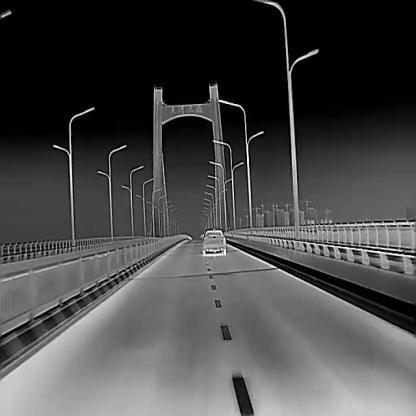car: (202, 228, 226, 255)
